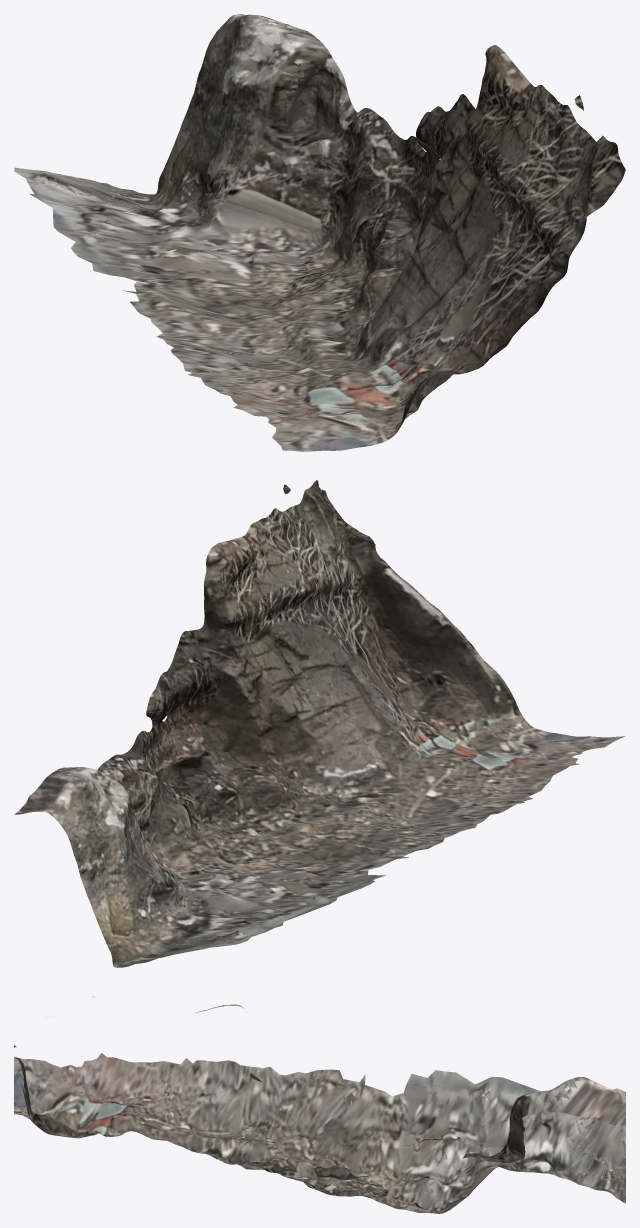
3 renders of one model, top to bottom at view 1: azimuth 30°, elevation 25°; view 2: azimuth 150°, elevation 25°; view 3: azimuth 270°, elevation 25°, orthographic. The views are drawn at different scales.
Size of the model in its own units: 1.41 by 1.16 by 2.53.
Materials: 2 (2 with a texture image).
